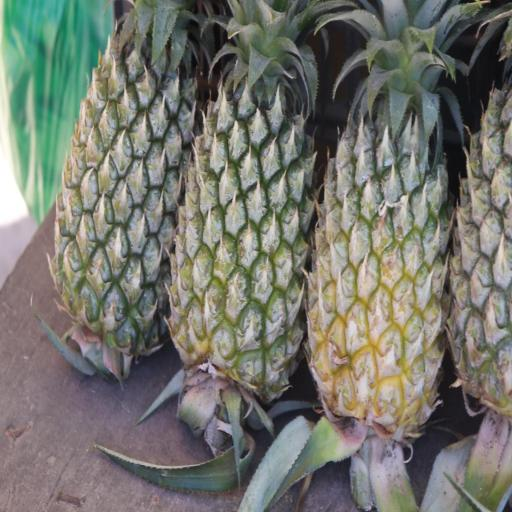------------------------------: (299, 0, 456, 451)
